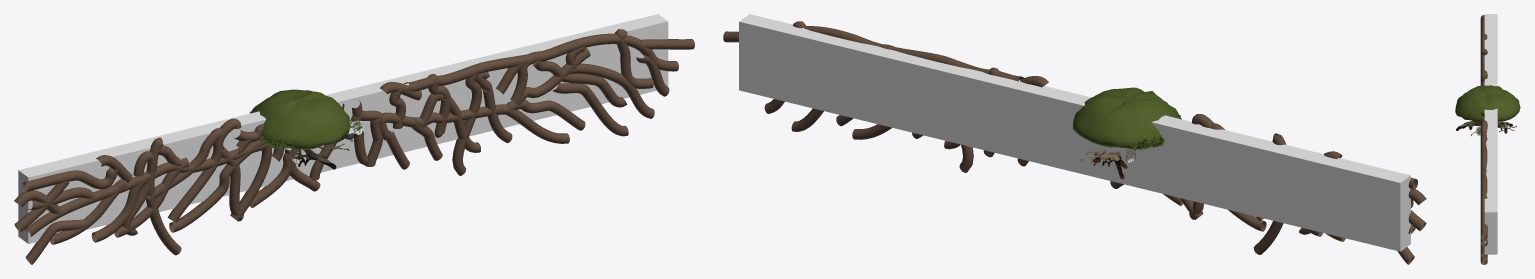
Rendered from roots.fbx.
3 views of the same model, side by side, from view 1: azimuth 30°, elevation 25°; view 2: azimuth 150°, elevation 25°; view 3: azimuth 270°, elevation 25° (orthographic). The views are drawn at different scales.
Visible parts, largest first — view 1: BezierCurve, Cube, Sphere, Vert; view 2: Cube, BezierCurve, Sphere, Vert; view 3: Cube, Sphere, BezierCurve, Vert.
Boxes of the visible parts, bbox=[...] form: BezierCurve: bbox=[14, 29, 694, 264]; Cube: bbox=[18, 14, 668, 243]; Sphere: bbox=[250, 89, 349, 149]; Vert: bbox=[291, 143, 349, 169]; Cube: bbox=[739, 14, 1410, 251]; BezierCurve: bbox=[723, 21, 1426, 264]; Sphere: bbox=[1073, 87, 1179, 148]; Vert: bbox=[1081, 150, 1127, 179]; Cube: bbox=[1484, 14, 1497, 254]; Sphere: bbox=[1455, 85, 1520, 122]; BezierCurve: bbox=[1480, 15, 1487, 264]; Vert: bbox=[1456, 121, 1516, 135].
Size of the model in its own units: 7740 by 1351 by 1013.
